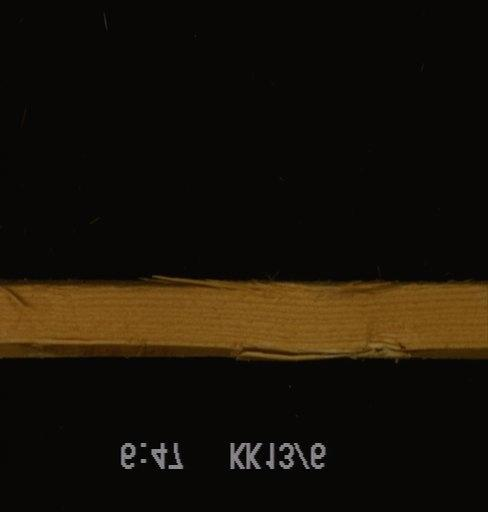wave: (0, 339, 486, 365), (3, 269, 485, 295)
